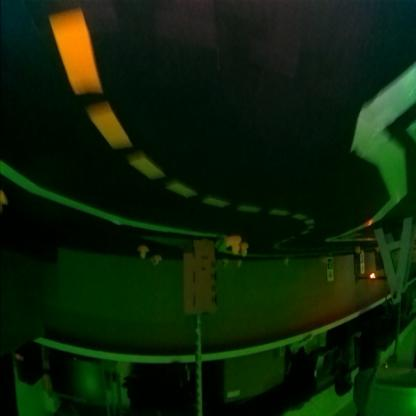Duckie: (227, 236, 242, 254), (138, 245, 148, 259), (1, 190, 7, 212), (154, 256, 162, 266), (241, 244, 248, 254), (223, 259, 229, 267), (356, 247, 362, 254), (285, 258, 290, 266), (375, 246, 380, 254), (238, 261, 242, 267)
Intersection sign: (328, 272, 334, 279)
QR code: (328, 260, 334, 268), (361, 257, 365, 264)
Traffic light: (371, 273, 377, 281)
